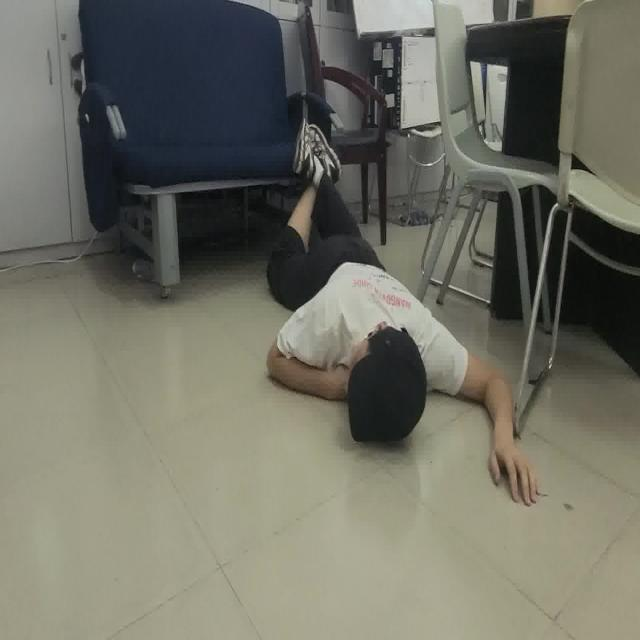fall: (261, 108, 544, 504)
